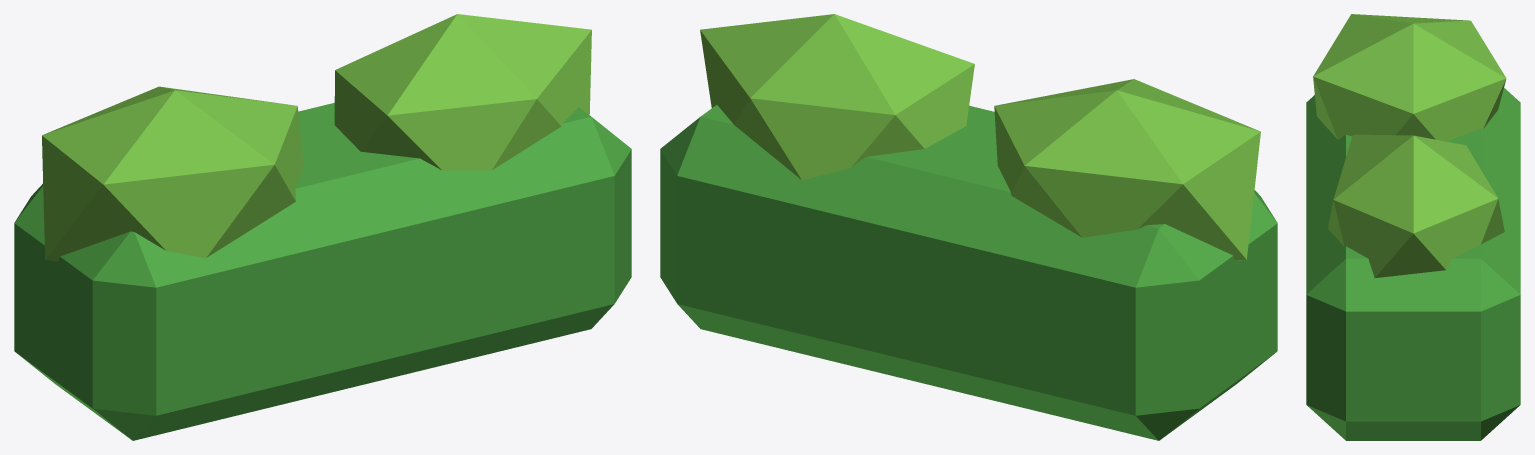
File: Hedge_2m.fbx
The picture shows the model from 3 angles, left to right: view 1: azimuth 30°, elevation 25°; view 2: azimuth 150°, elevation 25°; view 3: azimuth 270°, elevation 25°; orthographic projection. The views are drawn at different scales.
Parts seen in each view (by area): view 1: Hedge_2m; view 2: Hedge_2m; view 3: Hedge_2m.
Boxes of the visible parts, <box> form: Hedge_2m: <box>14,14,631,440</box>; Hedge_2m: <box>660,14,1277,440</box>; Hedge_2m: <box>1306,14,1520,440</box>.
Bounding box in the file's own units: 2.04 × 1.1 × 0.8052.
